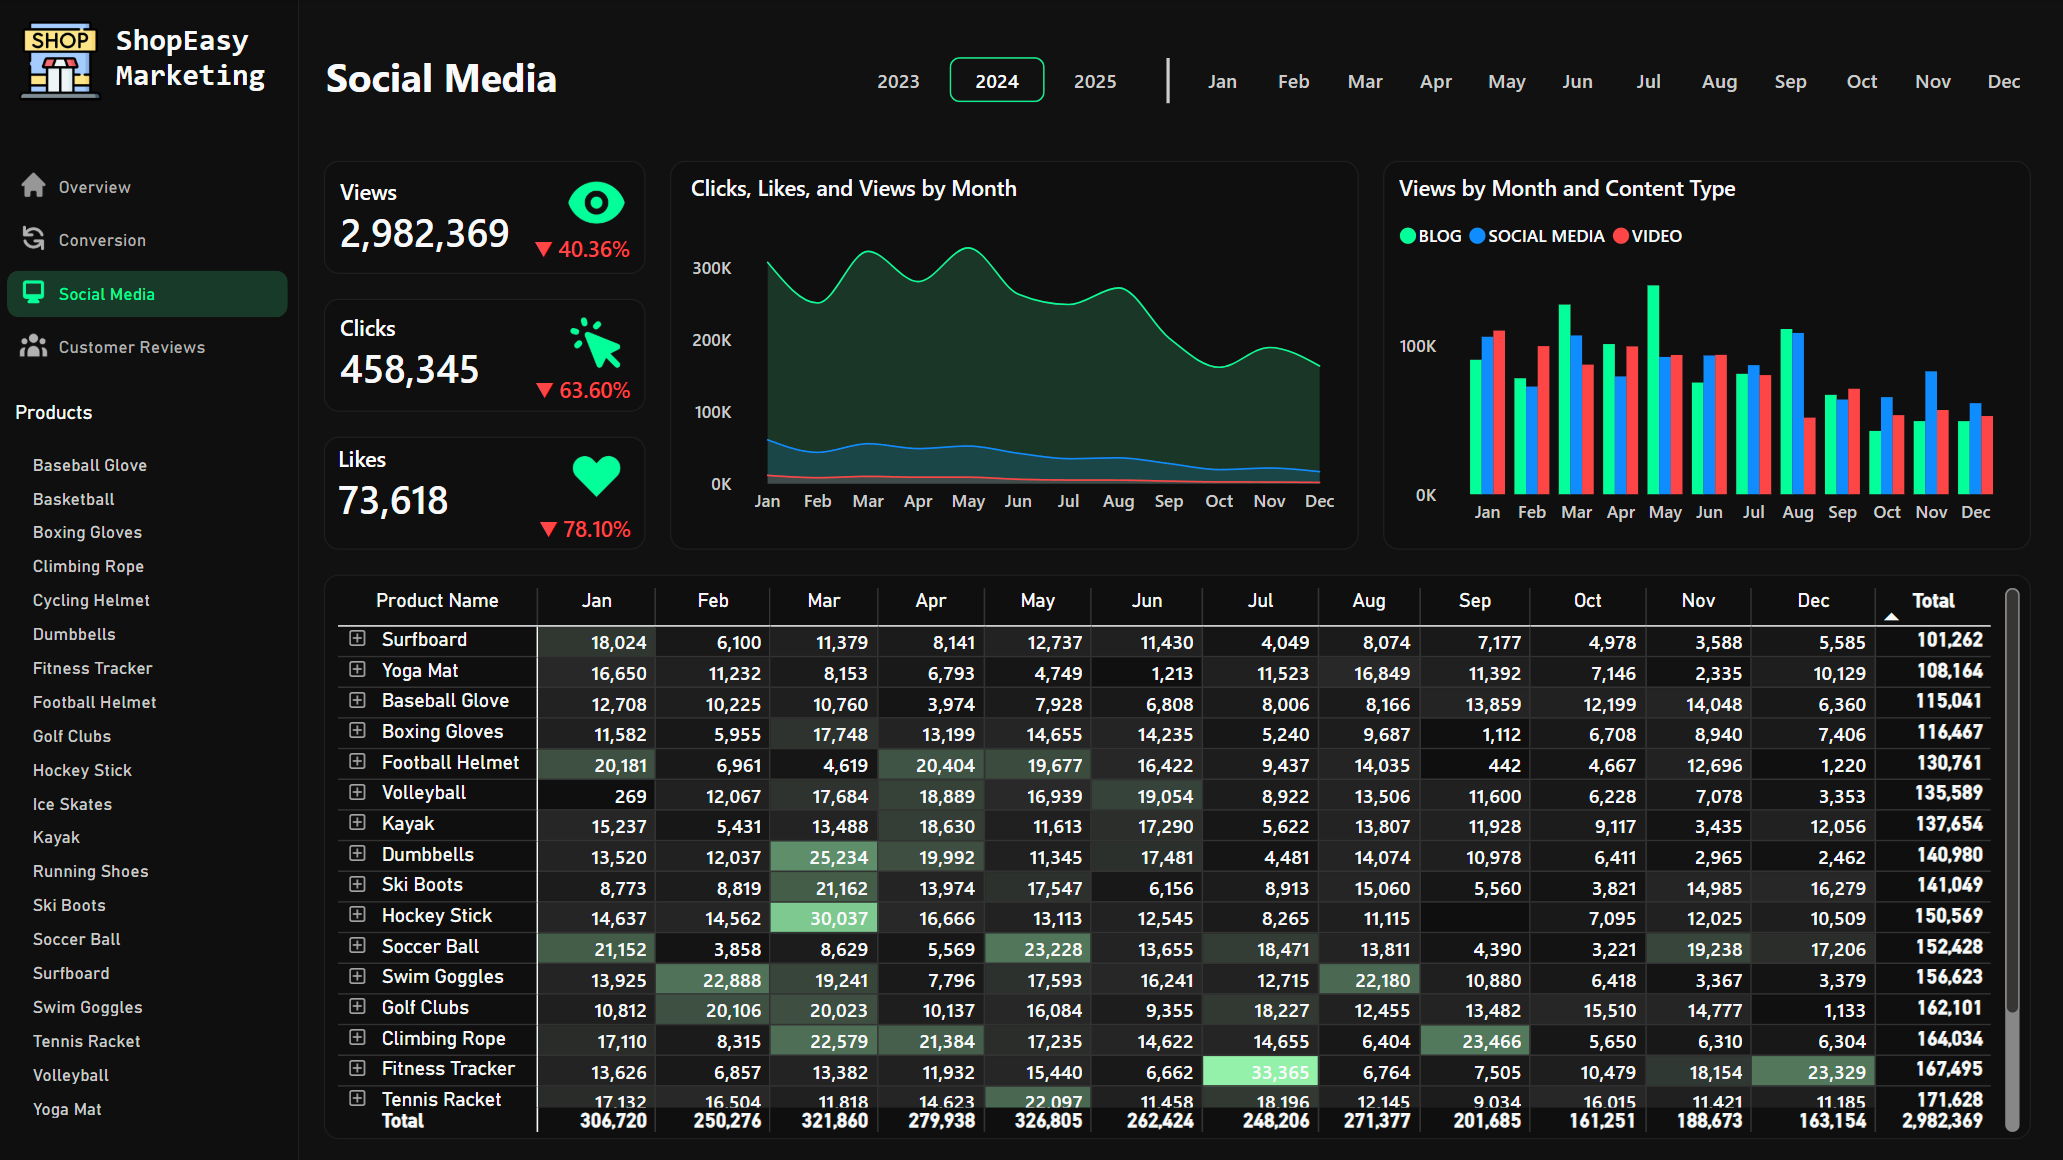

The page's visual inventory and layout, read from the dashboard file:
{"tool":"powerbi","page":{"name":"Social Media","canvas":[1280,720],"ordinal":2},"visuals":[{"type":"lineChart","title":"Clicks, Likes, and Views by Month","fields":{"Category":["Calendar.MonthNameShort"],"Y":["_Calculations.Clicks","_Calculations.Likes","_Calculations.Views"]},"box":[424.3,108,411.9,221.5],"z":0},{"type":"clusteredColumnChart","title":"Views by Month and Content Type","fields":{"Category":["Calendar.MonthNameShort"],"Y":["_Calculations.Views"],"Series":["FACT_engagement_data.ContentType"]},"box":[863.4,108,389.4,227.7],"z":1000},{"type":"pivotTable","fields":{"Rows":["DIM_products.ProductName","FACT_engagement_data.ContentType"],"Columns":["Calendar.MonthNameShort"],"Values":["_Calculations.Views"]},"box":[206,359.8,1052.3,347.4],"z":2000},{"type":"advancedSlicerVisual","fields":{"Values":["DIM_products.ProductName"]},"box":[15.2,273.6,157.5,439],"z":3000},{"type":"textbox","box":[5.7,241.3,174.3,31.7],"z":4000},{"type":"pageNavigator","box":[5.6,102,174.2,131],"z":5000},{"type":"advancedSlicerVisual","fields":{"Values":["Calendar.Year"]},"box":[523.8,31.1,193.5,38.9],"z":6000},{"type":"advancedSlicerVisual","fields":{"Values":["Calendar.MonthNameShort"]},"box":[732.8,31.1,542.5,38.7],"z":7000},{"type":"shape","box":[694.7,36.7,60.8,28.3],"z":8000},{"type":"cardVisual","fields":{"Data":["_Calculations.Views"]},"box":[206.7,96.4,126.7,77.7],"z":10000},{"type":"cardVisual","fields":{"Data":["_Calculations.Diff Last Year Views"]},"box":[269.7,125.9,127.5,48.2],"z":11000},{"type":"cardVisual","fields":{"Data":["_Calculations.Clicks"]},"box":[206.7,179.5,127.5,78.5],"z":12000},{"type":"cardVisual","fields":{"Data":["_Calculations.Diff Last Year Clicks"]},"box":[268.9,213,128.2,48.2],"z":13000},{"type":"cardVisual","fields":{"Data":["_Calculations.Likes"]},"box":[206,261.1,126.7,78.5],"z":14000},{"type":"cardVisual","fields":{"Data":["_Calculations.Diff Last Year Likes"]},"box":[270.5,299,127.5,48.2],"z":15000},{"type":"image","box":[7.8,7.1,60.7,62.8],"z":15001},{"type":"textbox","box":[68.1,9.5,112,57.8],"z":15002},{"type":"textbox","box":[198.4,26.4,299.5,47.6],"z":15003}]}

Visuals, with their boxes on the page's 1280x720 design canvas (x1, y1, x2, y2). These are canvas units, not pixel positions in the 2063x1160 screenshot, which may show the page scaled, cropped or inside an application window:
"Clicks, Likes, and Views by Month" lineChart: <region>424, 108, 836, 330</region>
"Views by Month and Content Type" clusteredColumnChart: <region>863, 108, 1253, 336</region>
pivotTable - DIM_products.ProductName x FACT_engagement_data.ContentType: <region>206, 360, 1258, 707</region>
advancedSlicerVisual - DIM_products.ProductName: <region>15, 274, 173, 713</region>
textbox: <region>6, 241, 180, 273</region>
pageNavigator: <region>6, 102, 180, 233</region>
advancedSlicerVisual - Calendar.Year: <region>524, 31, 717, 70</region>
advancedSlicerVisual - Calendar.MonthNameShort: <region>733, 31, 1275, 70</region>
shape: <region>695, 37, 756, 65</region>
cardVisual - _Calculations.Views: <region>207, 96, 333, 174</region>
cardVisual - _Calculations.Diff Last Year Views: <region>270, 126, 397, 174</region>
cardVisual - _Calculations.Clicks: <region>207, 180, 334, 258</region>
cardVisual - _Calculations.Diff Last Year Clicks: <region>269, 213, 397, 261</region>
cardVisual - _Calculations.Likes: <region>206, 261, 333, 340</region>
cardVisual - _Calculations.Diff Last Year Likes: <region>270, 299, 398, 347</region>
image: <region>8, 7, 68, 70</region>
textbox: <region>68, 10, 180, 67</region>
textbox: <region>198, 26, 498, 74</region>
